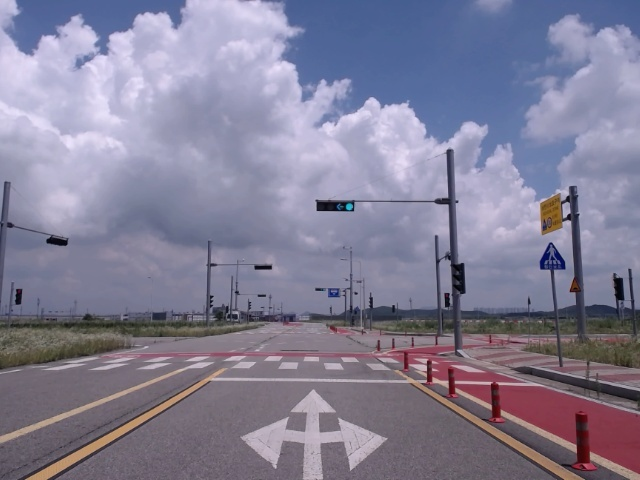all_green_4: (317, 198, 354, 211)
